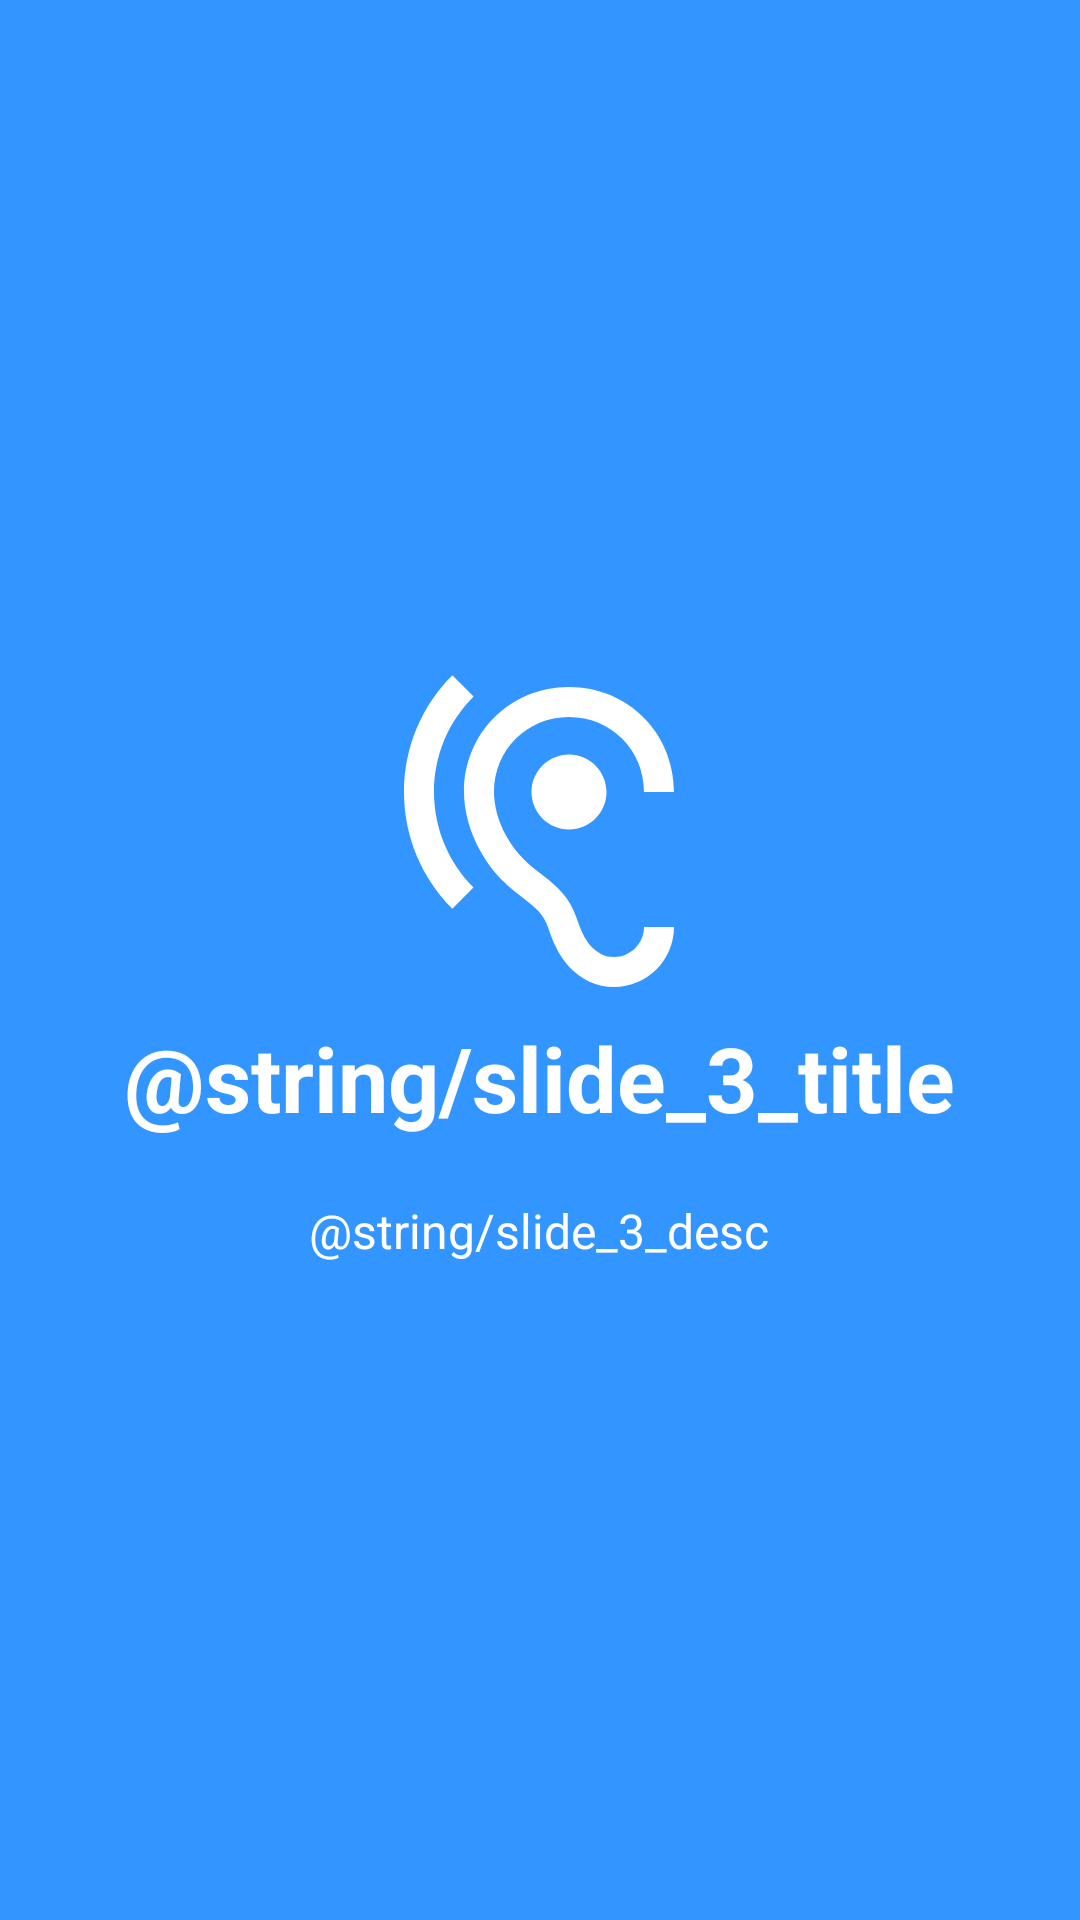

Icons on this 1080 x 1920 Android screen, each with the point to tap as [x,y]:
hearing: [539,831]
